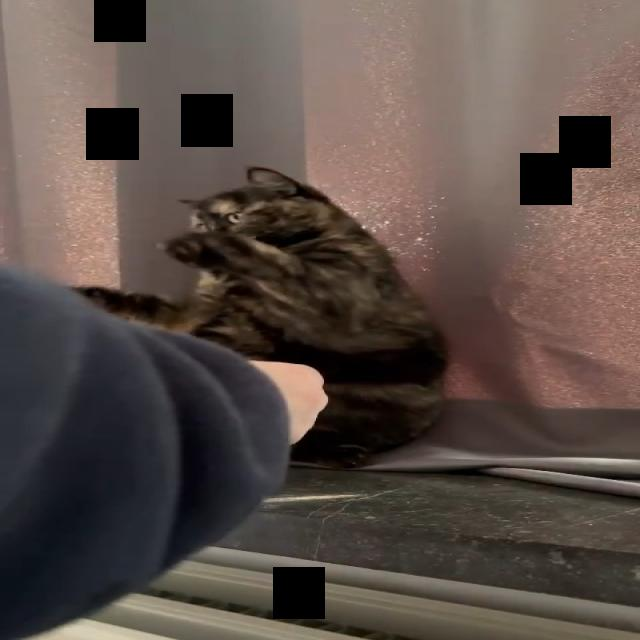authorized: (68, 165, 451, 468)
